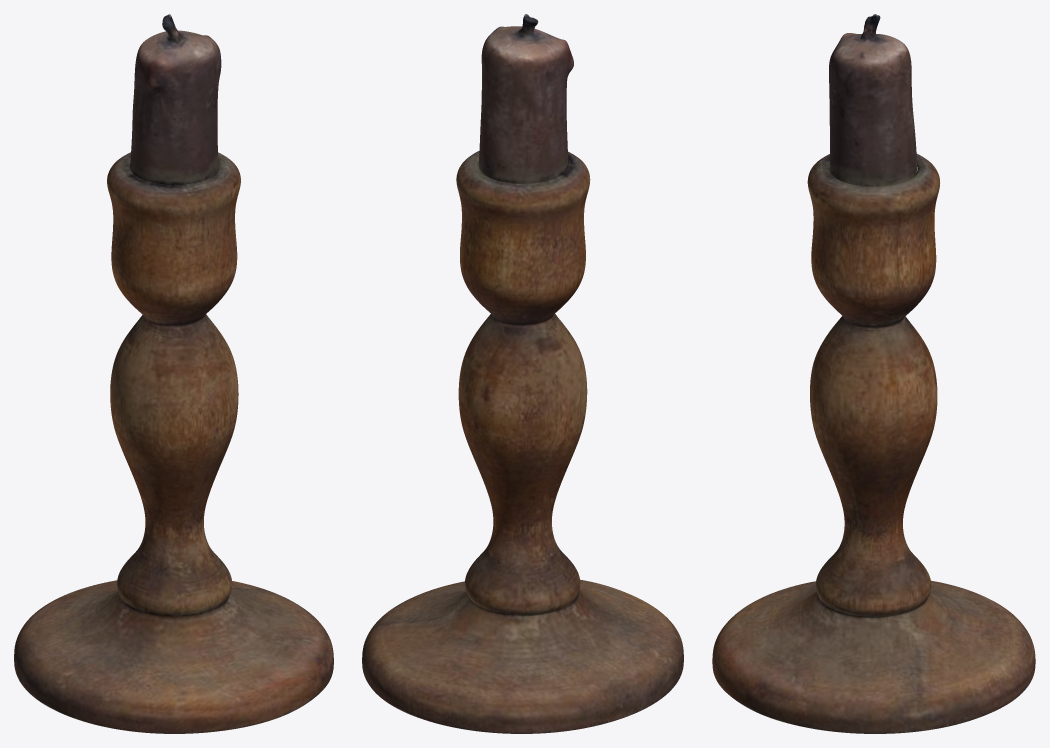
The model's file is decor__7.glb.
3 views of the same model, side by side, from view 1: azimuth 30°, elevation 25°; view 2: azimuth 150°, elevation 25°; view 3: azimuth 270°, elevation 25° (orthographic).
Parts seen in each view (by area): view 1: wooden_candlestick.002; view 2: wooden_candlestick.002; view 3: wooden_candlestick.002.
Part boxes in pixels (x1,y1,x2,y2): wooden_candlestick.002: [14, 14, 333, 733]; wooden_candlestick.002: [362, 14, 683, 733]; wooden_candlestick.002: [712, 14, 1035, 733].
Bounding box in the file's own units: 0.1062 × 0.24 × 0.1078.
1 material, 1 textured.
